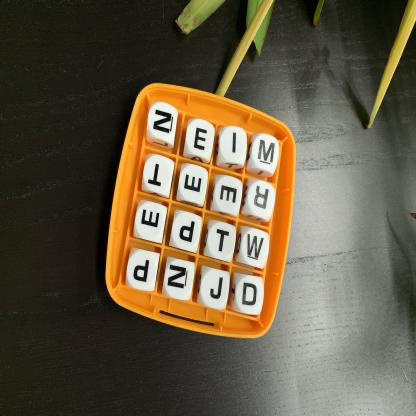d: (237, 275, 264, 314)
e: (135, 203, 166, 241), (180, 165, 209, 203), (188, 121, 216, 156), (215, 177, 242, 213)
i: (221, 128, 248, 162)
j: (202, 270, 231, 309)
m: (252, 135, 280, 171)
n: (166, 259, 195, 300), (149, 104, 179, 139)
p: (128, 252, 158, 292), (172, 213, 202, 251)
r: (249, 180, 276, 218)
t: (144, 154, 175, 192), (208, 222, 236, 261)
w: (243, 229, 270, 268)
